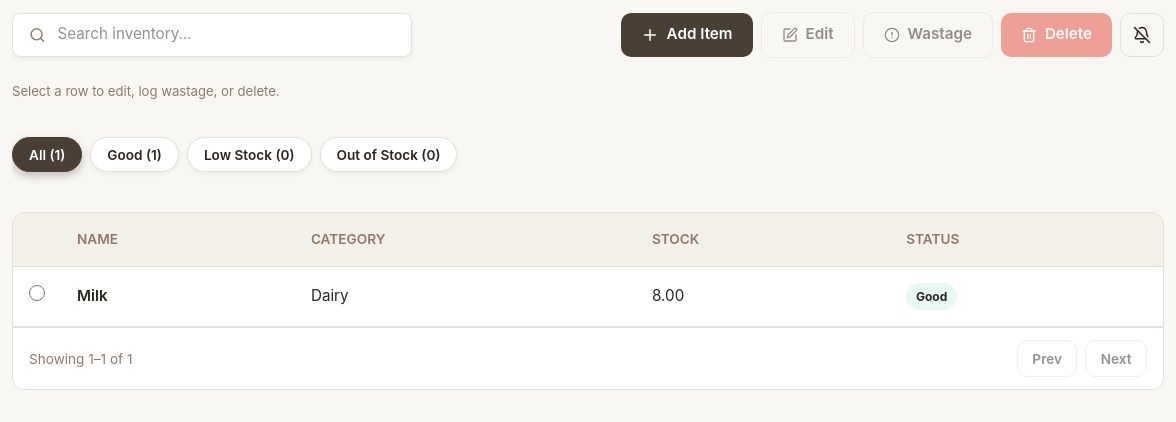
it: InventoryPage roles › should unselect the row when clicked again or escaped
This screenshot has width=1176, height=422.
Expected: the text "Milk" is shown, [61,266,295,327]
Click the radio button with test id "select-item-i1" at (37, 293), box [29,285,45,301]
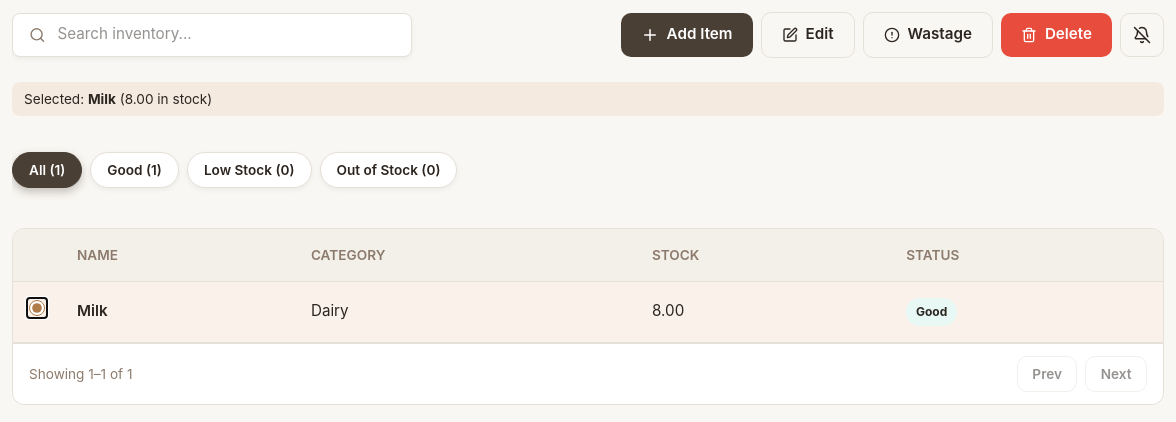
Now the button with test id "toolbar-edit-btn" is enabled, box [760,12,854,58]
Clicking the selected row again clears the selection.
Click the row with test id "select-item-i1" at (588, 312), box [13,281,1163,342]
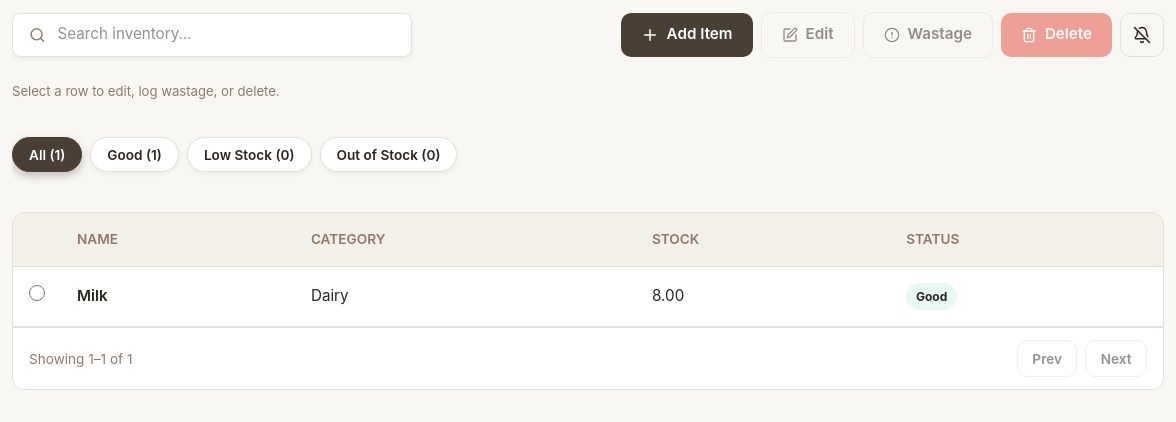
Now the button with test id "toolbar-edit-btn" is disabled, box [760,12,854,58]
Now the element with test id "selected-chip" is gone
Now the text "Select a row to edit, log wastage, or delete." is shown, box [12,83,280,99]
Escape clears it too after re-selecting.
Click the radio button with test id "select-item-i1" at (37, 293), box [29,285,45,301]
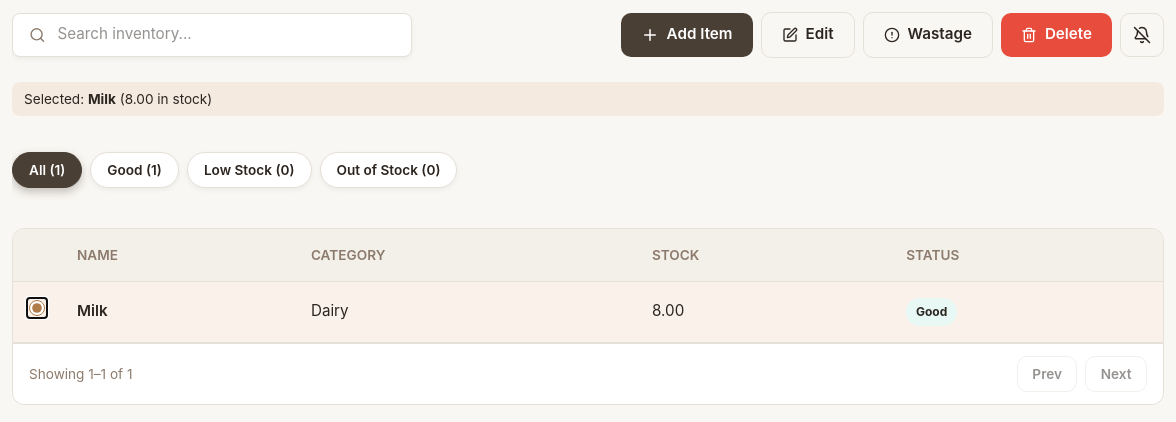
Now the button with test id "toolbar-edit-btn" is enabled, box [760,12,854,58]
Press Escape
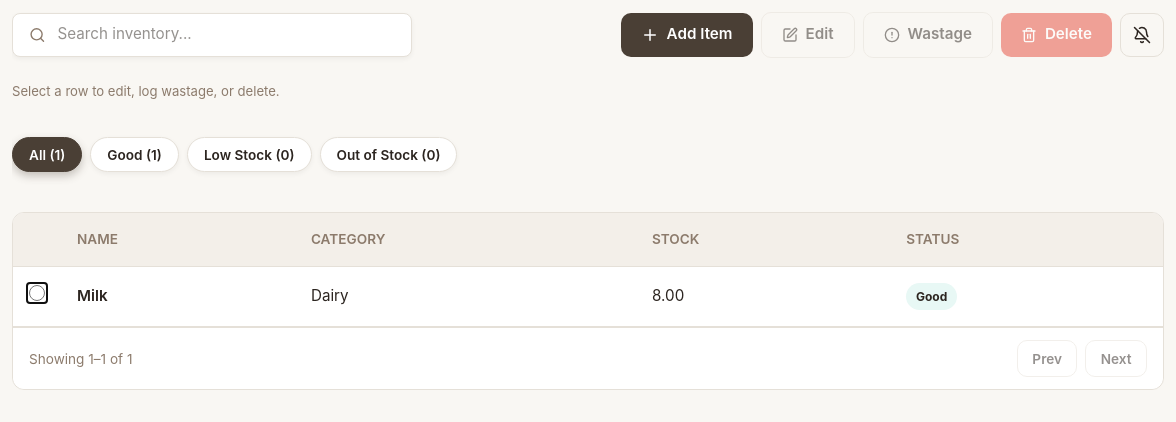
Now the button with test id "toolbar-edit-btn" is disabled, box [760,12,854,58]
Now the element with test id "selected-chip" is gone
